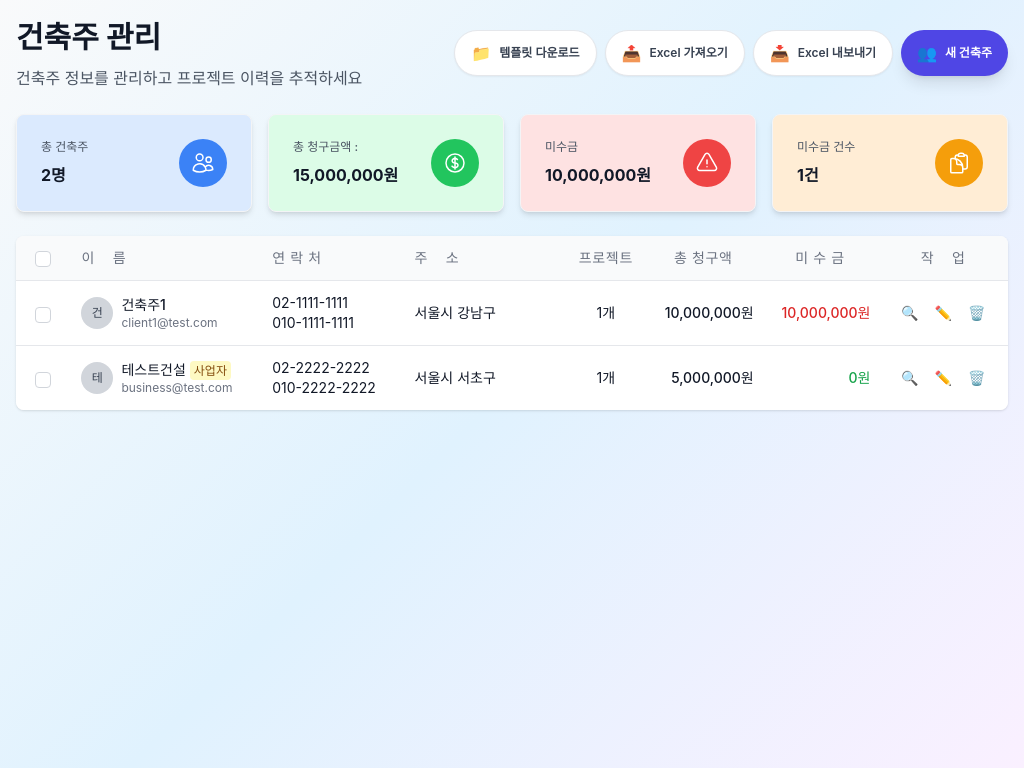
Test: Clients Component › 일괄 삭제 › 선택 삭제 버튼이 조건부로 표시됨
The width and height of the screenshot is (1024, 768).
Click the checkbox named "건축주1 선택".
click(43, 315)  # box [35, 307, 51, 323]
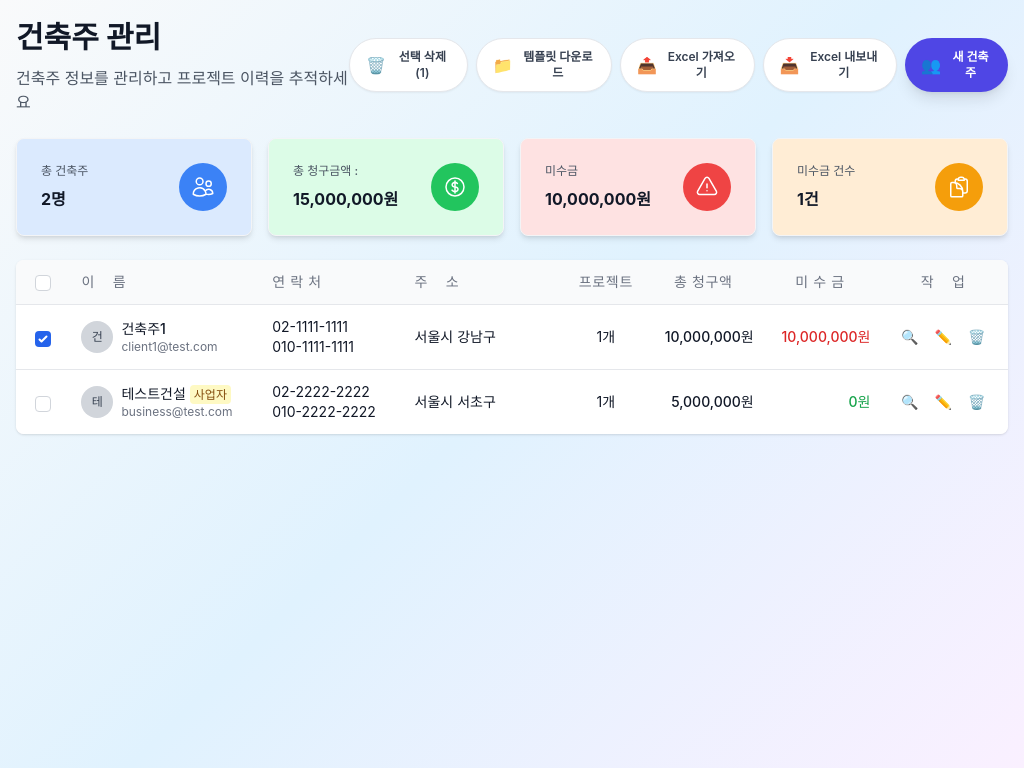
Result: the text "선택 삭제(1)" is shown at [399, 49, 446, 80]
